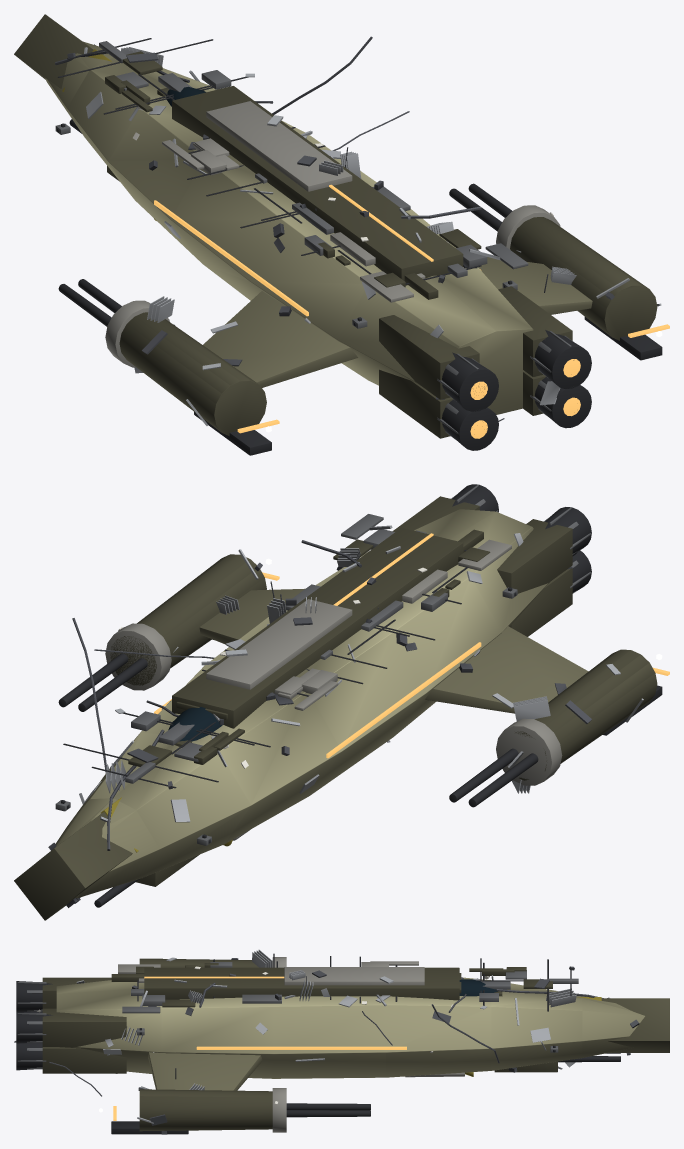
File: ship_paladin.glb
The picture shows the model from 3 angles, top to bottom: view 1: azimuth 30°, elevation 25°; view 2: azimuth 150°, elevation 25°; view 3: azimuth 270°, elevation 25°; orthographic projection. The views are drawn at different scales.
Visible parts, largest first — view 1: Paladin; view 2: Paladin; view 3: Paladin.
Part boxes in pixels (x1,y1,x2,y2): Paladin: (14,14,669,455); Paladin: (14,484,669,920); Paladin: (14,949,669,1134).
Bounding box in the file's own units: 10.25 × 3.78 × 18.72.
